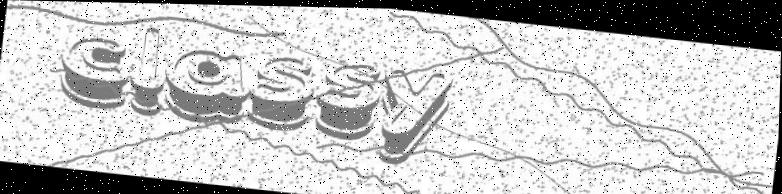a: (160, 42, 254, 127)
c: (55, 31, 134, 111)
l: (126, 24, 172, 116)
s: (311, 57, 383, 142), (247, 51, 318, 133)
y: (373, 63, 455, 169)
